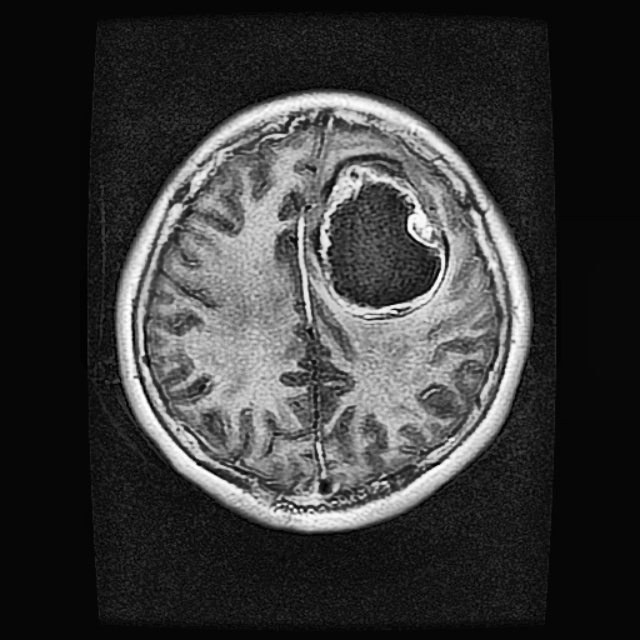Pituitary: (317, 150, 449, 320)
